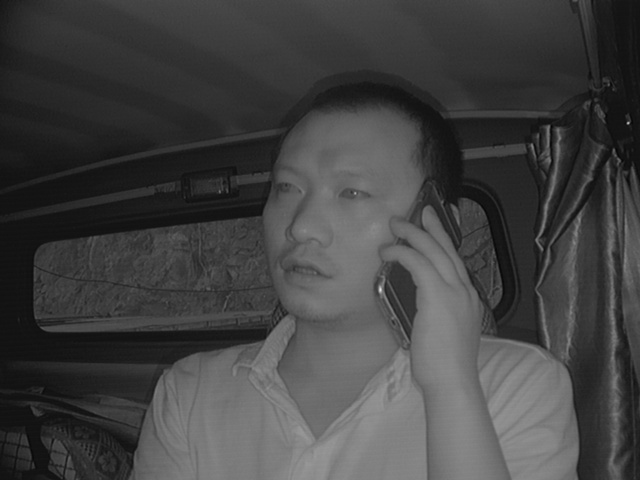hand: (384, 210, 493, 378)
